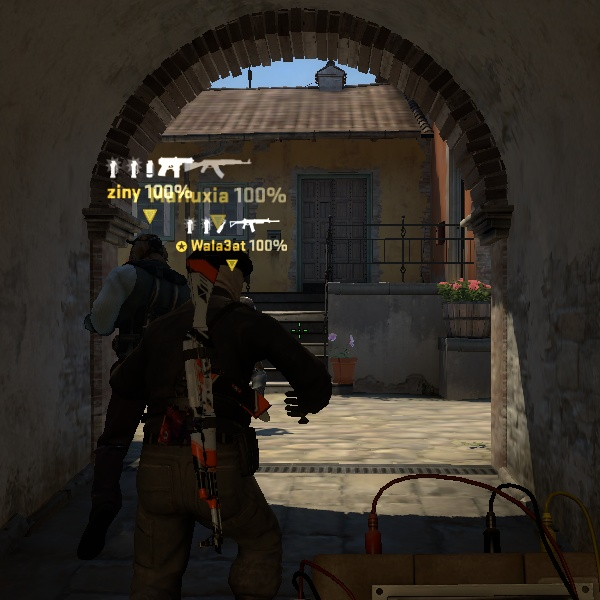t_head: (117, 222, 176, 279)
